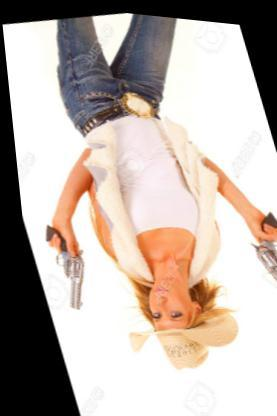pistol: (33, 216, 91, 312), (235, 200, 275, 300)
